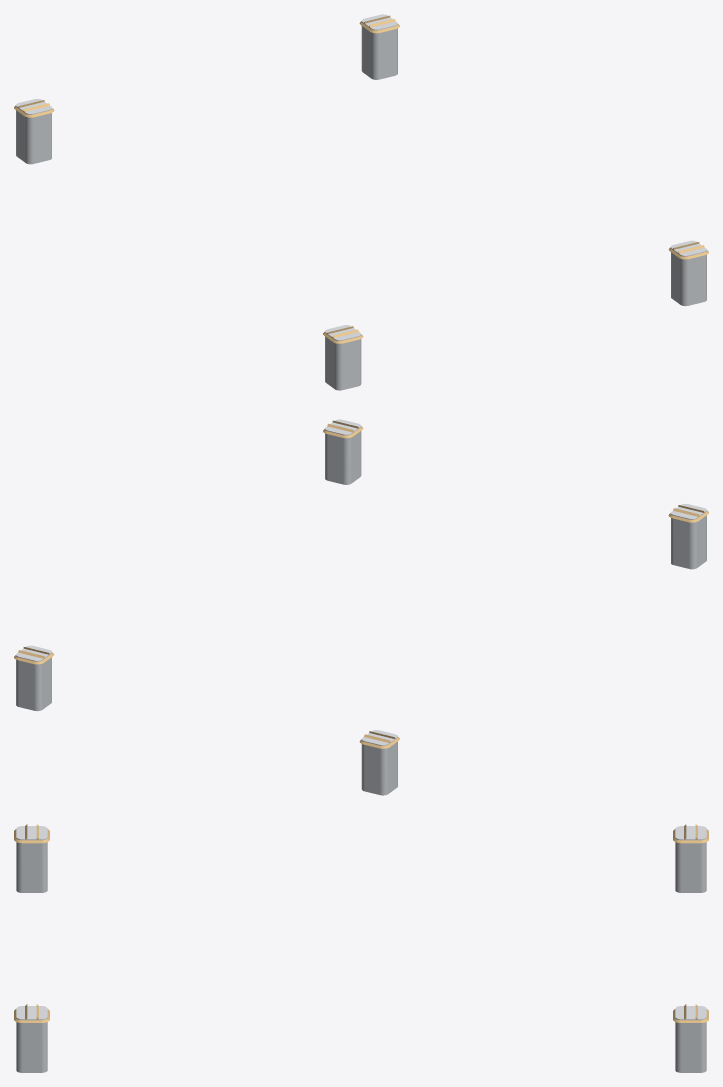
Rendered from belt_support.glb.
3 renders of one model, top to bottom at view 1: azimuth 30°, elevation 25°; view 2: azimuth 150°, elevation 25°; view 3: azimuth 270°, elevation 25°, orthographic. The views are drawn at different scales.
Visible parts, largest first — view 1: bant_ayagi_65_-3, k72_bant_ayagi_4335.0_-421.0, k72_bant_ayagi_4065.0_-421.0, bant_ayagi_335_-3; view 2: k72_bant_ayagi_4065.0_-421.0, bant_ayagi_335_-3, bant_ayagi_65_-3, k72_bant_ayagi_4335.0_-421.0; view 3: k72_bant_ayagi_4065.0_-421.0, k72_bant_ayagi_4335.0_-421.0, bant_ayagi_65_-3, bant_ayagi_335_-3, k79_bant_ust_tapa_4065_-421, k79_bant_ust_tapa_4065_-3, k79_bant_ust_tapa_4335_-421, k79_bant_ust_tapa_4335_-3.
Boxes of the visible parts, x1,y1,x2,y2 form: bant_ayagi_65_-3: (325,336,361,390); k72_bant_ayagi_4335.0_-421.0: (361,26,397,79); k72_bant_ayagi_4065.0_-421.0: (16,110,51,164); bant_ayagi_335_-3: (671,252,706,306); k72_bant_ayagi_4065.0_-421.0: (361,741,397,795); bant_ayagi_335_-3: (325,431,361,484); bant_ayagi_65_-3: (671,515,706,569); k72_bant_ayagi_4335.0_-421.0: (16,657,51,711); k72_bant_ayagi_4065.0_-421.0: (675,842,706,892); k72_bant_ayagi_4335.0_-421.0: (675,1022,706,1072); bant_ayagi_65_-3: (16,842,47,892); bant_ayagi_335_-3: (16,1022,47,1072); k79_bant_ust_tapa_4065_-421: (675,826,706,840); k79_bant_ust_tapa_4065_-3: (16,826,47,840); k79_bant_ust_tapa_4335_-421: (675,1006,706,1020); k79_bant_ust_tapa_4335_-3: (16,1006,47,1020).
Size of the model in its own units: 0.2928 by 0.0389 by 0.4408.
